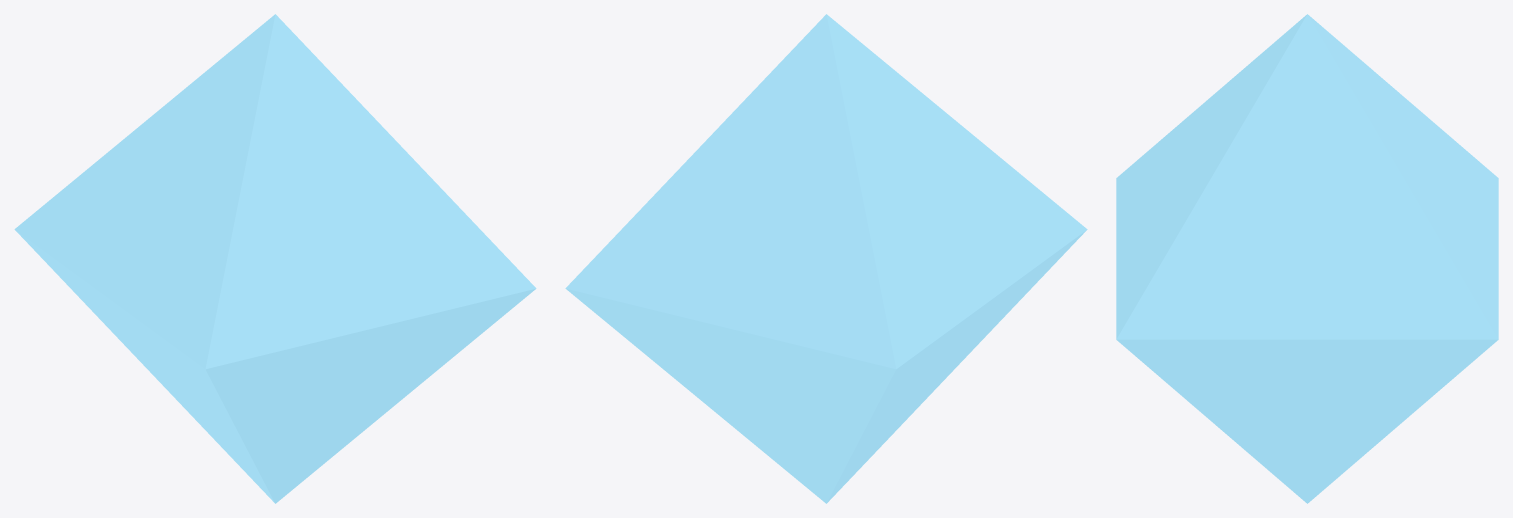
Rendered from proj_orb.glb.
The picture shows the model from 3 angles, left to right: view 1: azimuth 30°, elevation 25°; view 2: azimuth 150°, elevation 25°; view 3: azimuth 270°, elevation 25°; orthographic projection.
Parts seen in each view (by area): view 1: proj_orb; view 2: proj_orb; view 3: proj_orb.
Boxes of the visible parts, <box> form: proj_orb: <box>14,14,536,503</box>; proj_orb: <box>565,14,1087,503</box>; proj_orb: <box>1116,14,1498,503</box>.
Bounding box in the file's own units: 0.1981 × 0.28 × 0.1981.
